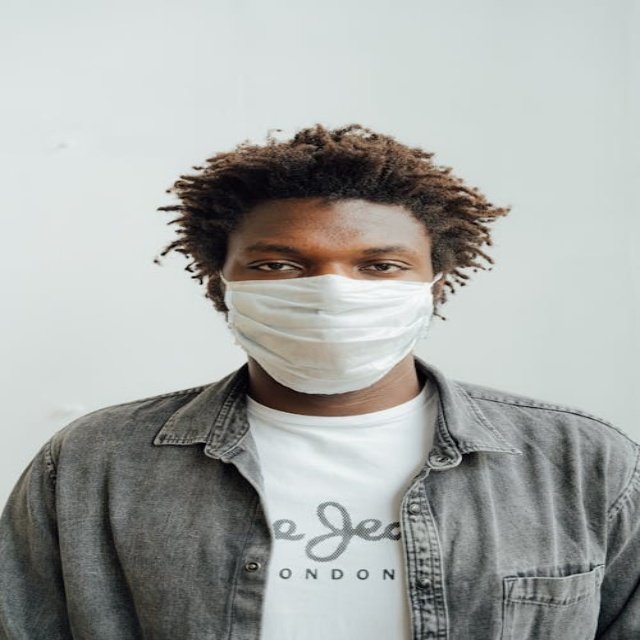Mascara: (221, 271, 438, 392)
Sin_gafas: (358, 260, 409, 273), (249, 260, 304, 272)
